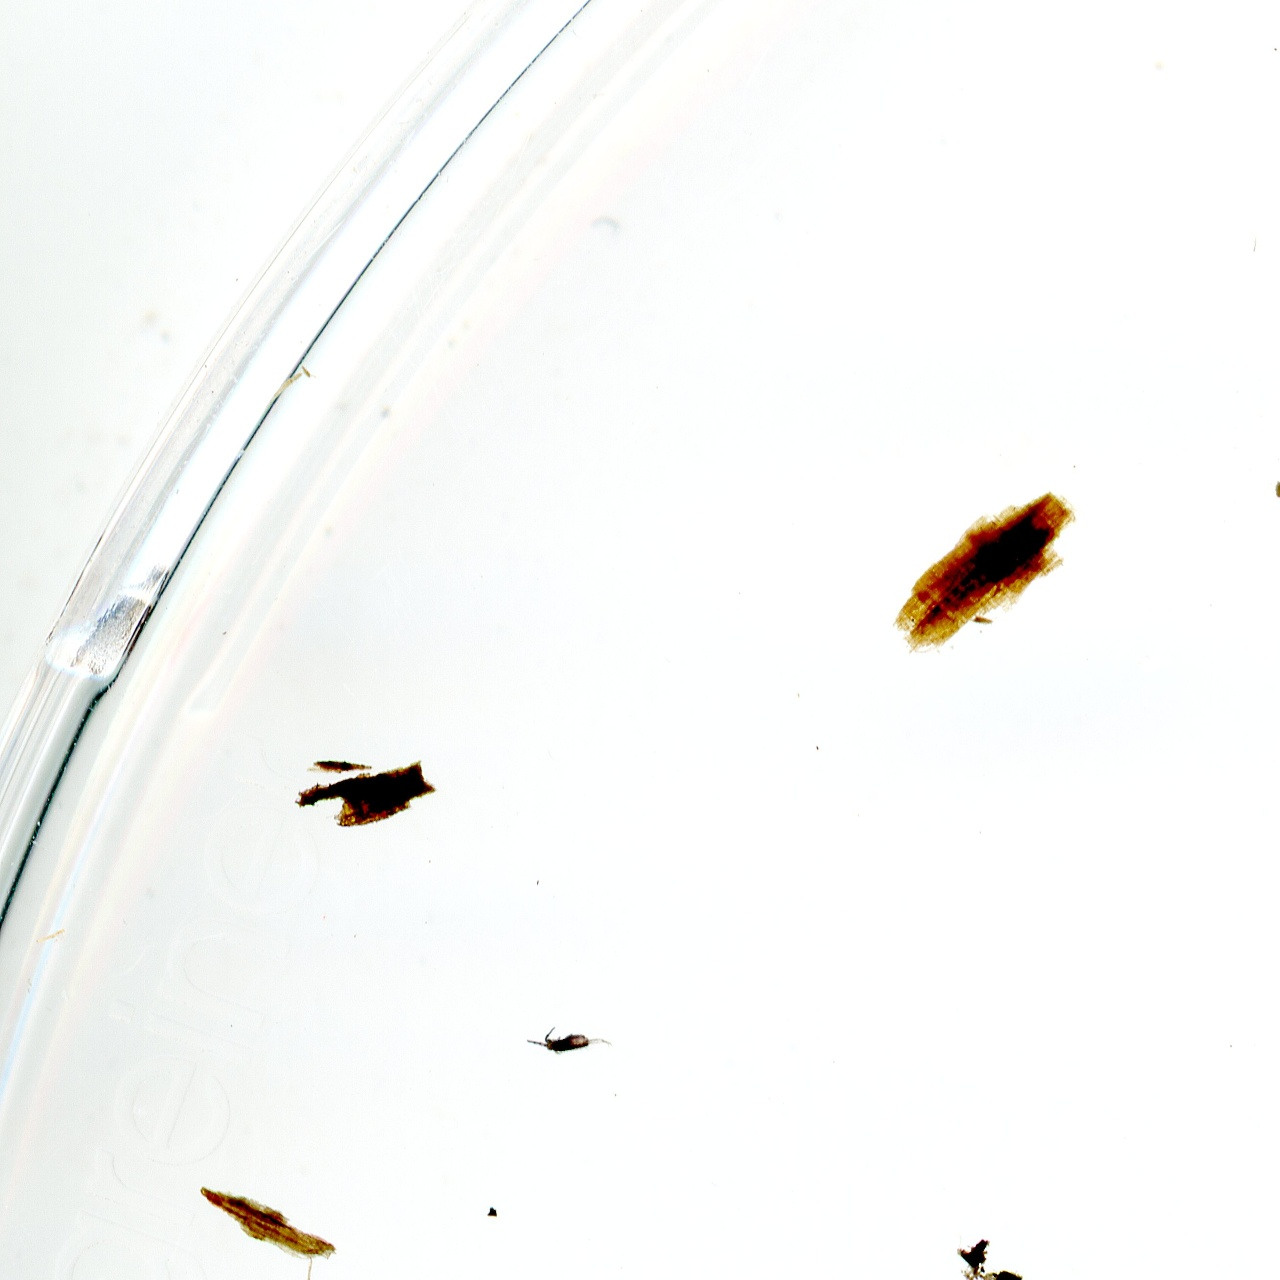arthropod: (525, 1023, 617, 1058)
